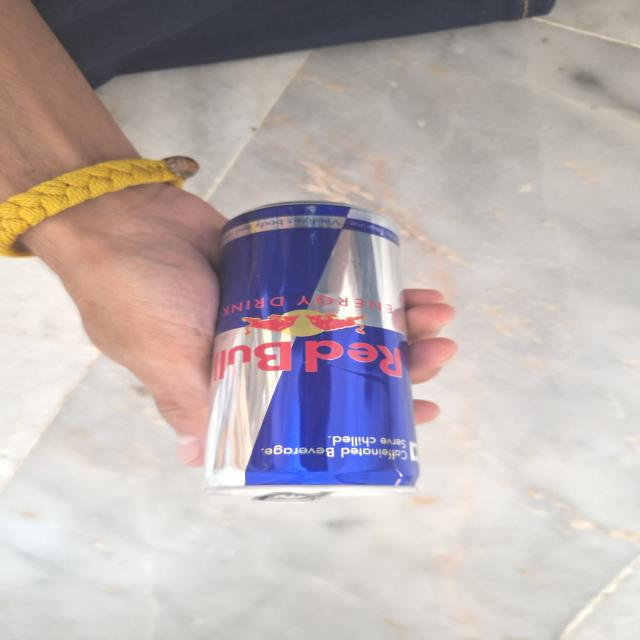Redbul: (195, 198, 422, 506)
